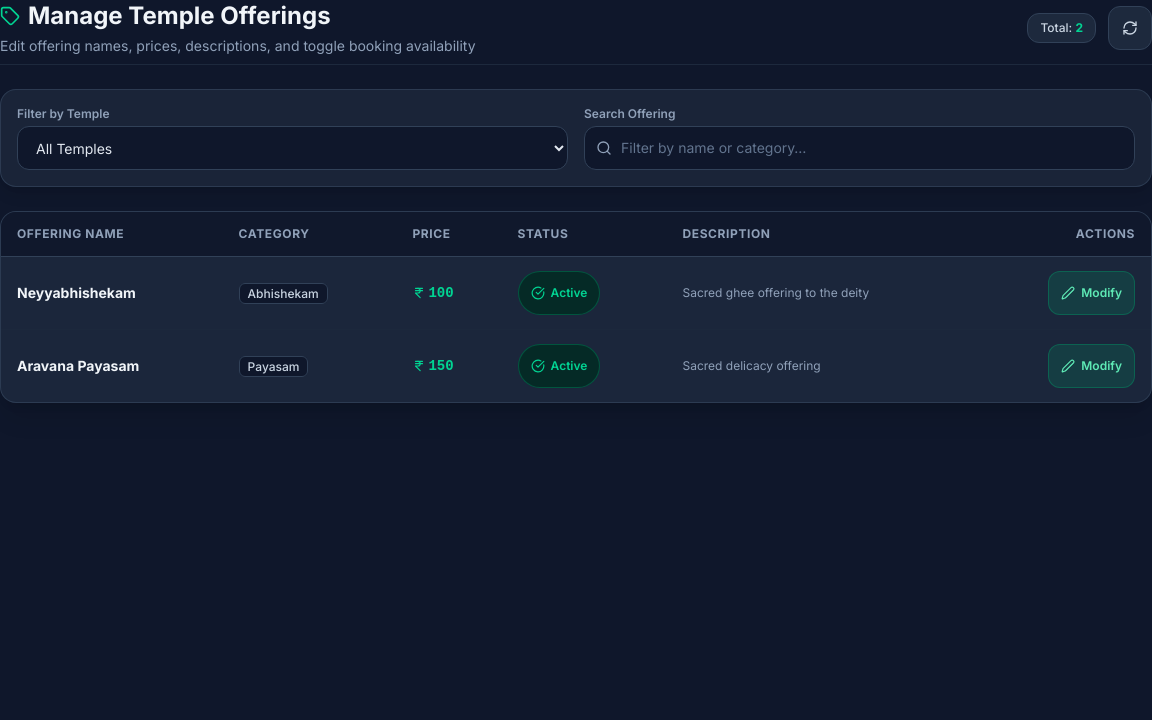
Staff Authentication and Offerings Modification › Offerings Management & Modification › modifies offering details (price and name) through edit modal
Expected: the text "Neyyabhishekam" is shown, x1=1 y1=256 x2=223 y2=330
// Click "Modify" button for Neyyabhishekam
Click the button with aria-label "Edit Neyyabhishekam": (1092, 293) x1=1048 y1=271 x2=1135 y2=315
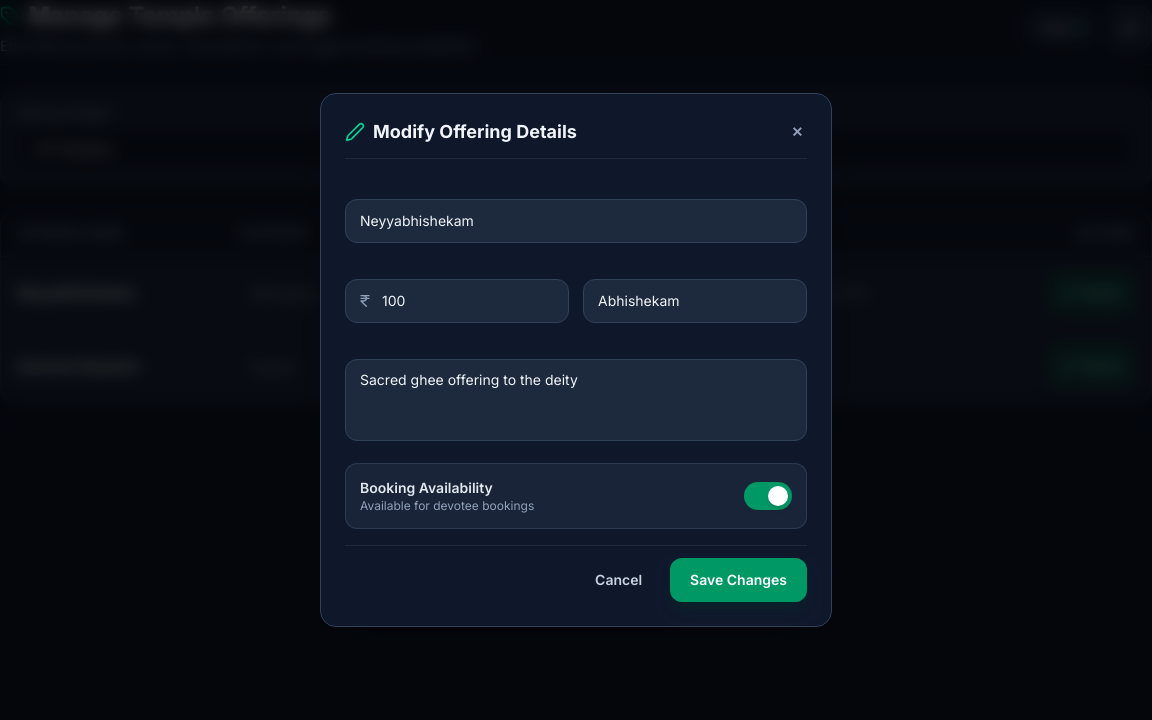
Now the dialog "Modify Offering Details" is shown
Replace the text in the field labelled "Offering Name *" with "Special Neyyabhishekam": (576, 221) x1=345 y1=199 x2=807 y2=243
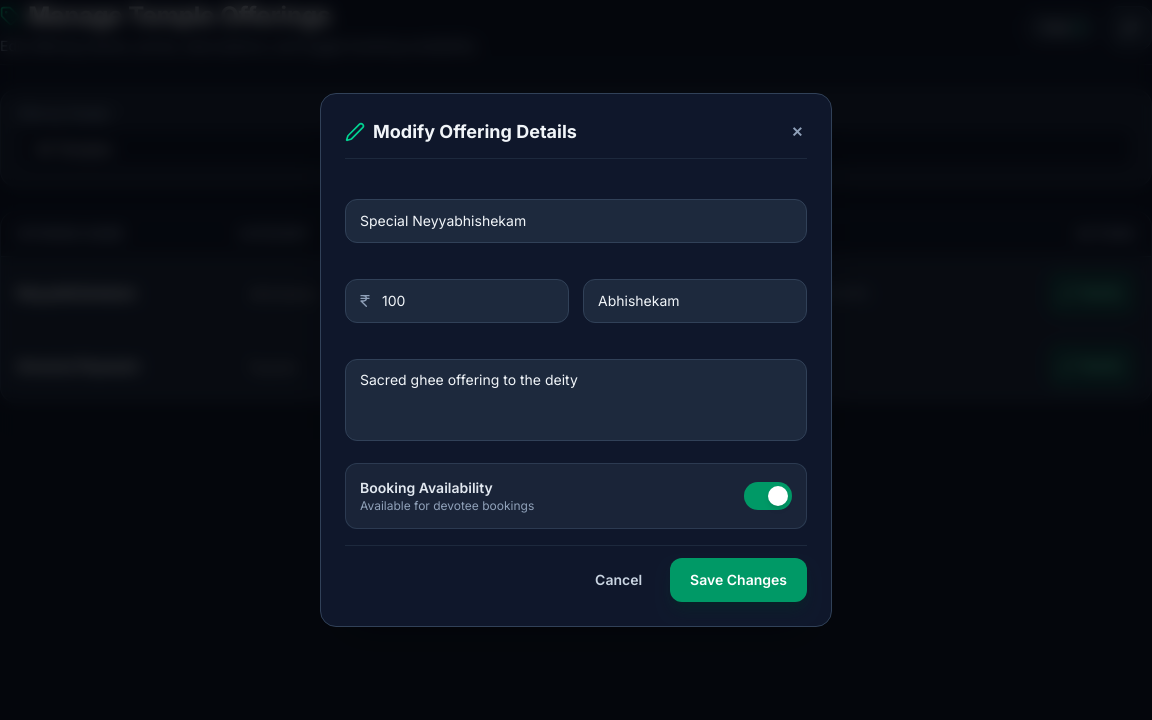
Replace the text in the number field labelled "Price (₹ INR) *" with "120": (457, 301) x1=345 y1=279 x2=569 y2=323
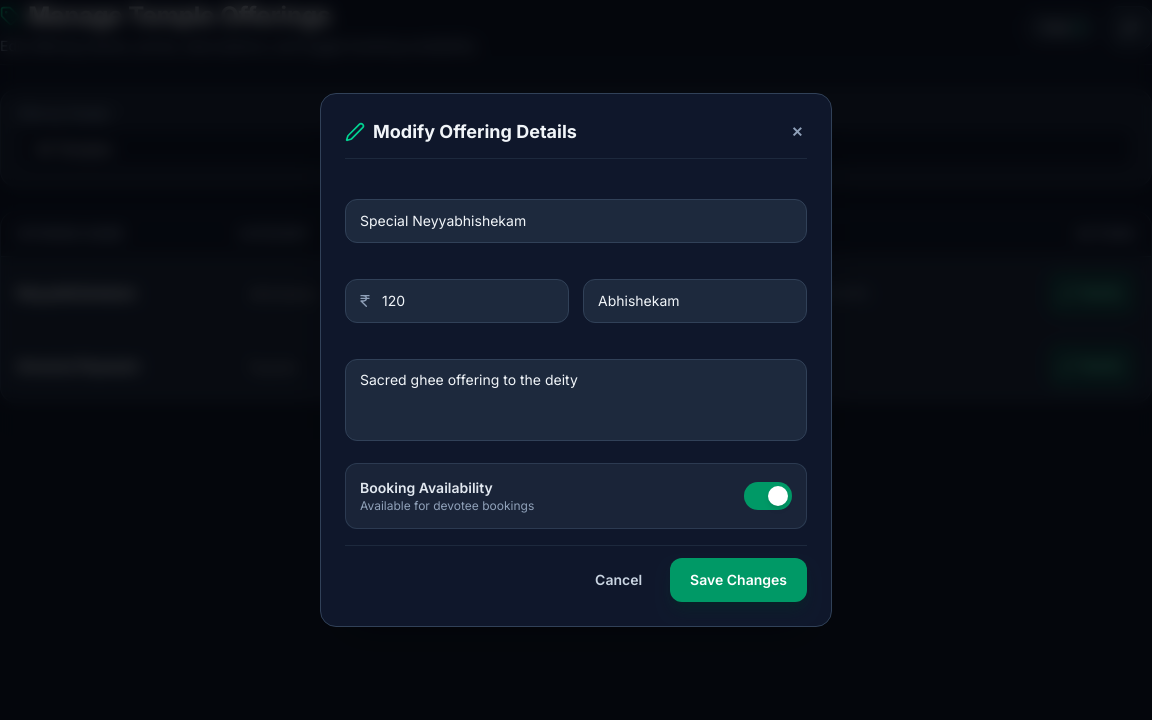
// Save changes
Click the button "Save Changes": (739, 580) x1=670 y1=558 x2=807 y2=602
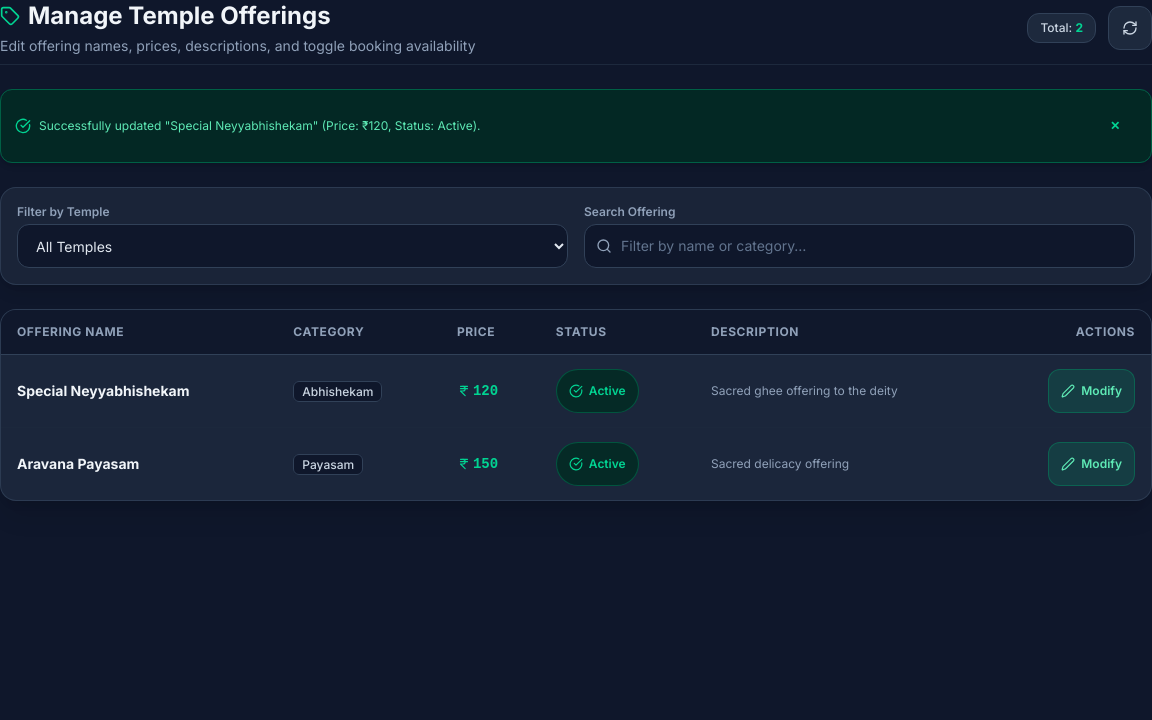
Now the message shows "Special Neyyabhishekam", box x1=39 y1=118 x2=481 y2=133
